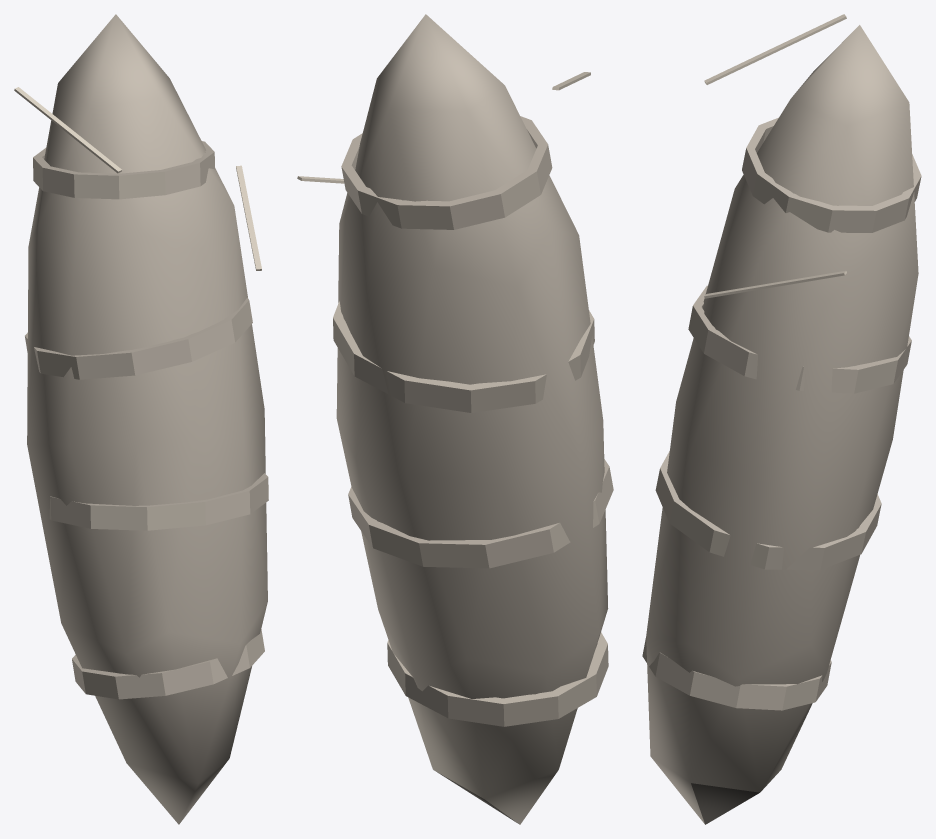
File: SM_VKI_Prop_Cocoon.fbx
3 renders of one model, left to right at view 1: azimuth 30°, elevation 25°; view 2: azimuth 150°, elevation 25°; view 3: azimuth 270°, elevation 25°, orthographic. The views are drawn at different scales.
Parts seen in each view (by area): view 1: SM_VKI_Prop_Cocoon.001; view 2: SM_VKI_Prop_Cocoon.001; view 3: SM_VKI_Prop_Cocoon.001.
Boxes of the visible parts, x1,y1,x2,y2 form: SM_VKI_Prop_Cocoon.001: [14, 14, 268, 824]; SM_VKI_Prop_Cocoon.001: [297, 14, 613, 824]; SM_VKI_Prop_Cocoon.001: [642, 14, 921, 824].
Bounding box in the file's own units: 0.5475 × 1.71 × 0.5383.
